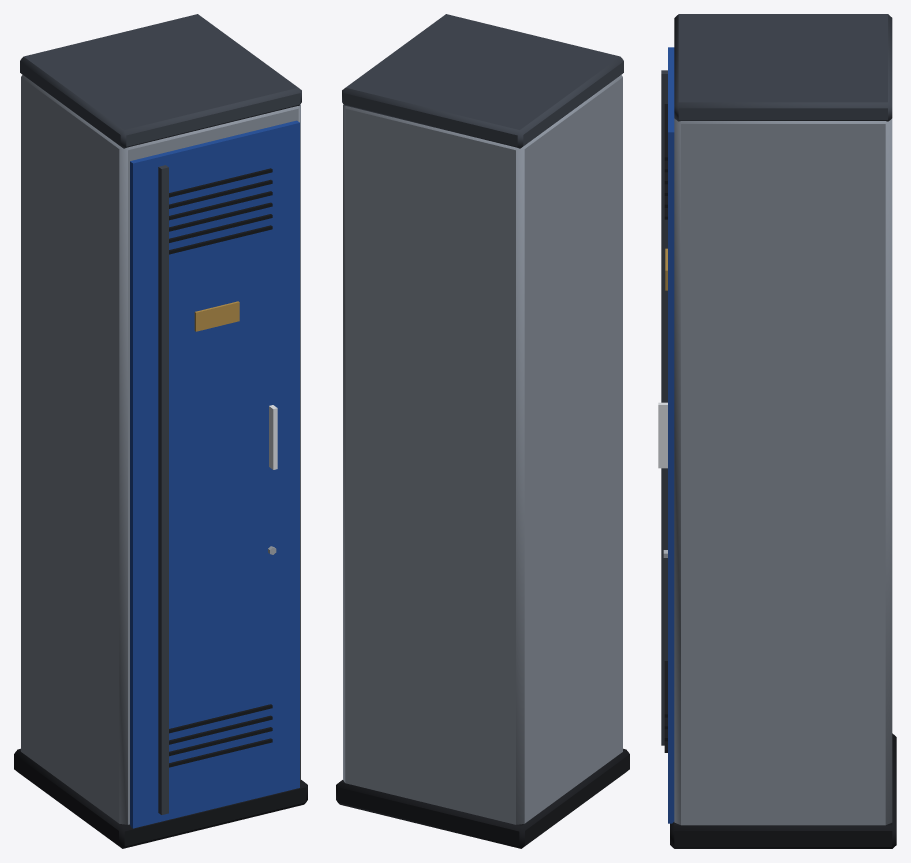
File: locker_tall_vented_locker.glb
3 renders of one model, left to right at view 1: azimuth 30°, elevation 25°; view 2: azimuth 150°, elevation 25°; view 3: azimuth 270°, elevation 25°, orthographic. The views are drawn at different scales.
Visible parts, largest first — view 1: locker_tall_vented_locker; view 2: locker_tall_vented_locker; view 3: locker_tall_vented_locker.
Part boxes in pixels (bbox=[...]): locker_tall_vented_locker: bbox=[14, 14, 307, 848]; locker_tall_vented_locker: bbox=[336, 14, 629, 848]; locker_tall_vented_locker: bbox=[658, 14, 896, 848].
Size of the model in its own units: 0.52 by 1.88 by 0.547.
